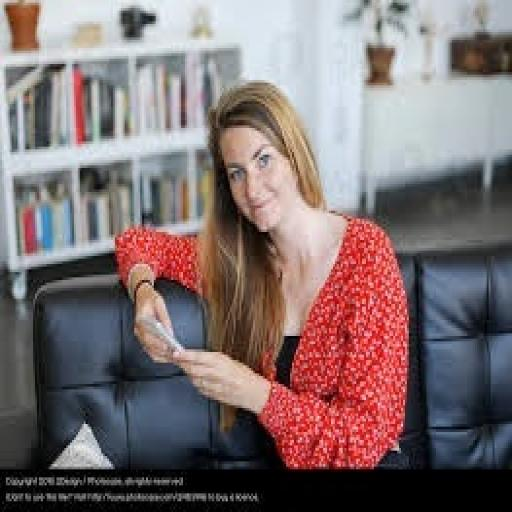texting: (113, 75, 415, 469)
